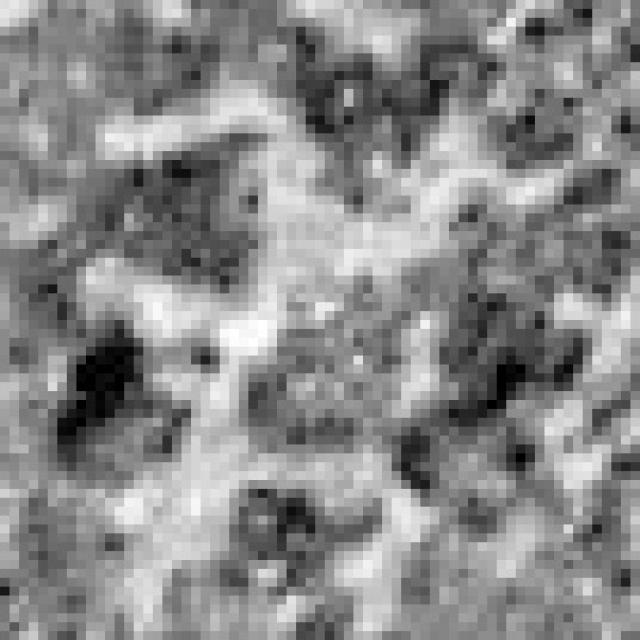inner: (233, 271, 431, 452)
lobe: (277, 28, 496, 211), (86, 128, 267, 299), (45, 325, 225, 489), (204, 482, 391, 616), (394, 398, 548, 542), (430, 275, 600, 405)
outer: (0, 0, 640, 640)
